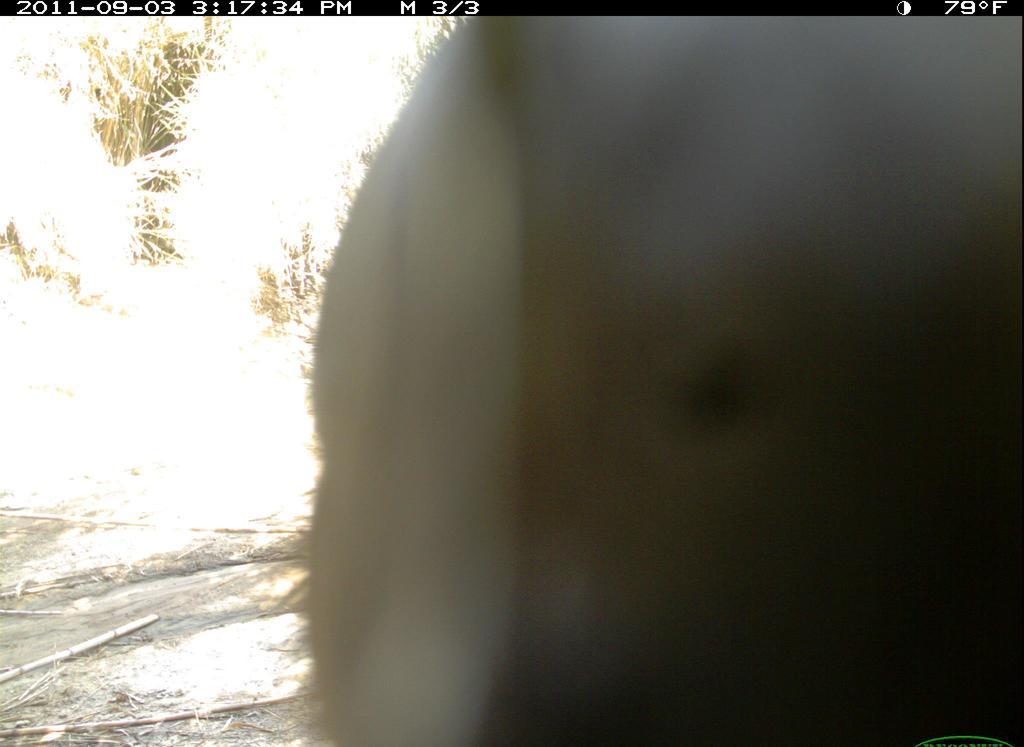bird: (285, 20, 1016, 747)
